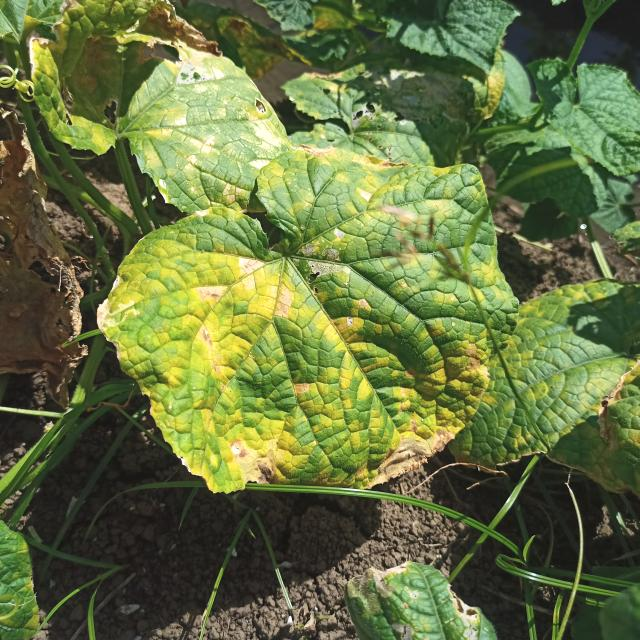disease_cucumber: (105, 143, 518, 493), (110, 41, 277, 210)
